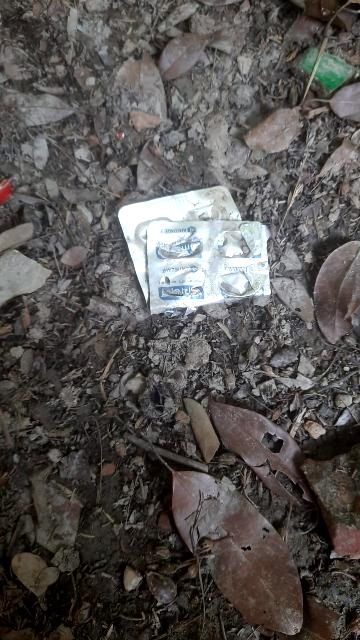medicine: (111, 185, 277, 316)
